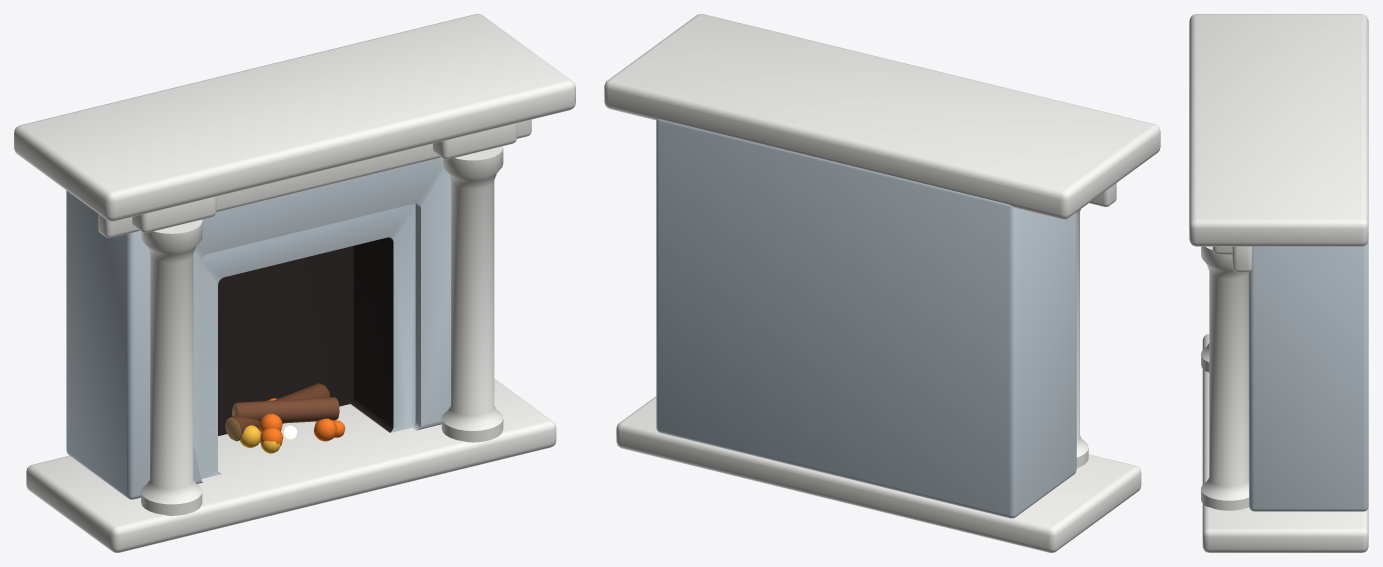
Rendered from lareira_classica_colunas.glb.
3 renders of one model, left to right at view 1: azimuth 30°, elevation 25°; view 2: azimuth 150°, elevation 25°; view 3: azimuth 270°, elevation 25°, orthographic. The views are drawn at different scales.
Visible parts, largest first — view 1: lareira_classica_colunas; view 2: lareira_classica_colunas; view 3: lareira_classica_colunas.
Part boxes in pixels (x1,y1,x2,y2): lareira_classica_colunas: [14, 14, 575, 552]; lareira_classica_colunas: [604, 14, 1160, 552]; lareira_classica_colunas: [1189, 14, 1368, 552].
Bounding box in the file's own units: 1.5 × 1.12 × 0.54.
Materials: 2 (1 with a texture image).
